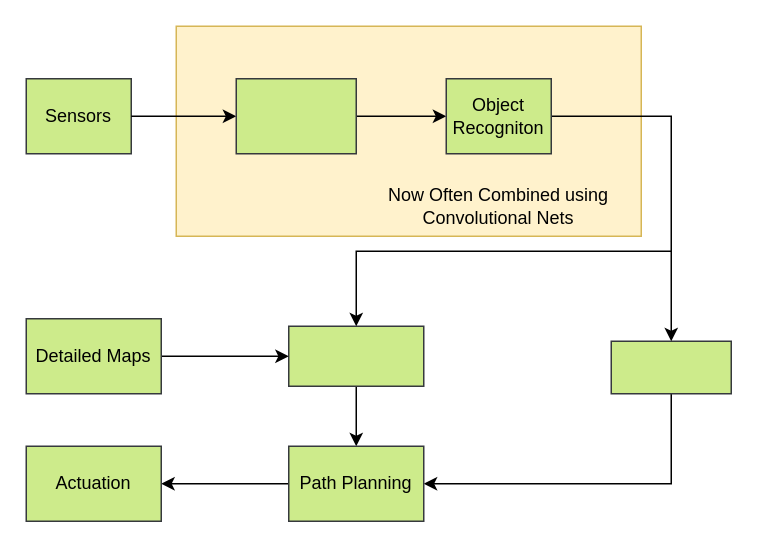
Image size: 758x548. Some labels were removed from this diagram. The shapes that lost their labels are listed below. From the top down, each one's box as (x1, y1, x2, y2) in pixels, then its label:
(235, 77, 356, 154): Feature Extraction
(287, 325, 424, 386): Localizaton
(610, 340, 731, 394): Cost Map
